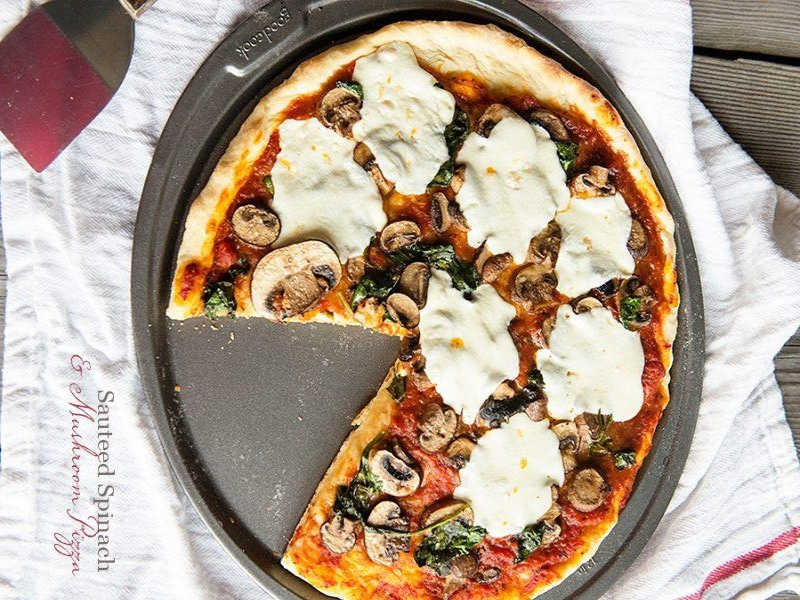champignon: (249, 242, 345, 327), (359, 501, 423, 572), (614, 265, 667, 334), (225, 201, 287, 256), (315, 79, 374, 134), (505, 262, 565, 316), (410, 395, 462, 456), (369, 449, 424, 500), (319, 508, 367, 561), (567, 162, 623, 197), (376, 219, 423, 259)
